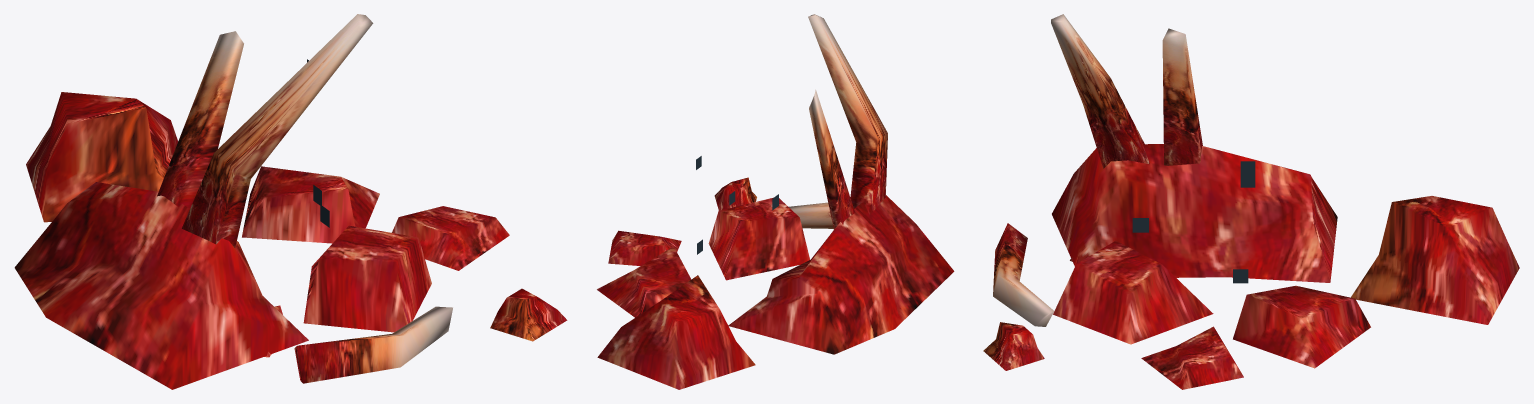
File: bloodymeat02.obj
3 views of the same model, side by side, from view 1: azimuth 30°, elevation 25°; view 2: azimuth 150°, elevation 25°; view 3: azimuth 270°, elevation 25° (orthographic). The views are drawn at different scales.
Visible parts, largest first — view 1: Geoset0; view 2: Geoset0; view 3: Geoset0, Geoset1.
Boxes of the visible parts, left/top/right/bottom form: Geoset0: left=14, top=14, right=567, bottom=389; Geoset0: left=597, top=14, right=954, bottom=389; Geoset0: left=983, top=14, right=1519, bottom=389; Geoset1: left=1132, top=161, right=1255, bottom=283.
Bounding box in the file's own units: 1.05 × 0.7597 × 1.3.
Materials: 2 (2 with a texture image).
